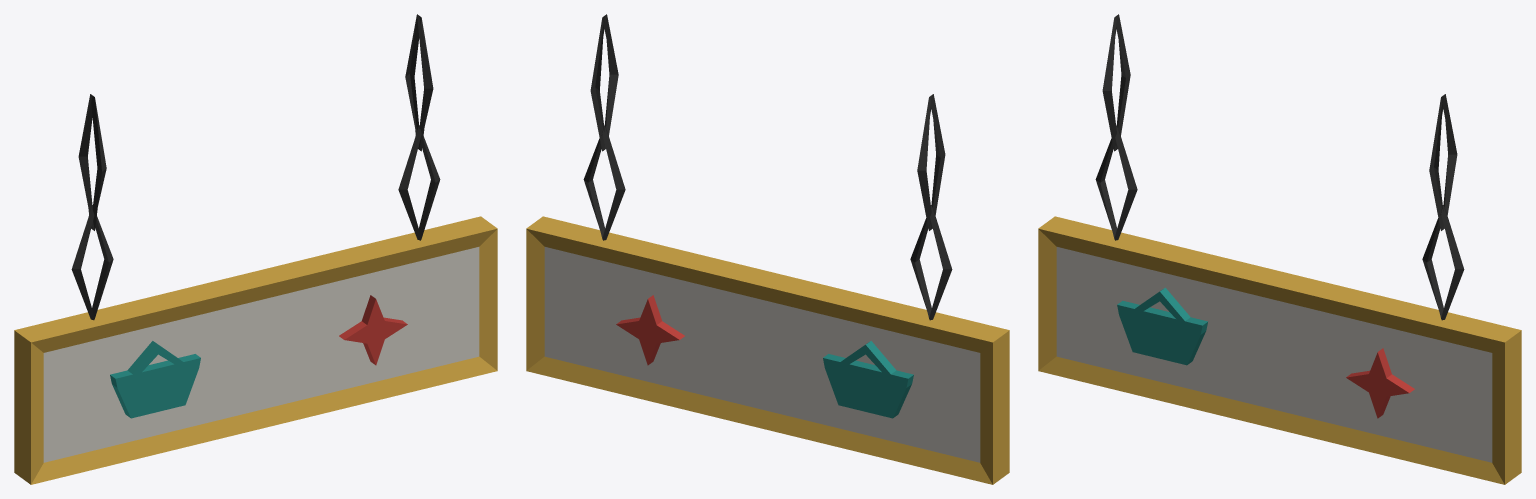
Rendered from reyon_tabelasi.glb.
3 views of the same model, side by side, from view 1: azimuth 30°, elevation 25°; view 2: azimuth 150°, elevation 25°; view 3: azimuth 330°, elevation 25° (orthographic).
Parts seen in each view (by area): view 1: reyon_tabelasi; view 2: reyon_tabelasi; view 3: reyon_tabelasi.
Boxes of the visible parts, x1,y1,x2,y2 form: reyon_tabelasi: (14, 14, 497, 484); reyon_tabelasi: (526, 14, 1009, 484); reyon_tabelasi: (1038, 14, 1521, 484).
Size of the model in its own units: 1.2 by 0.9 by 0.1048.
